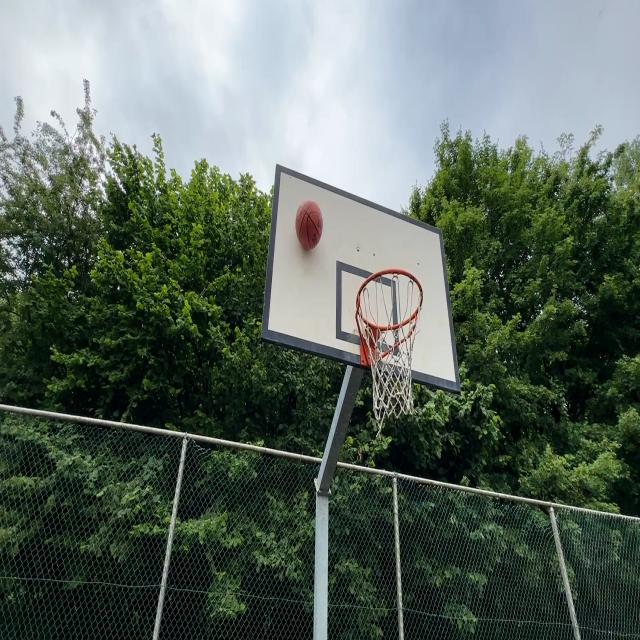rebound_hit: (295, 200, 323, 254)
